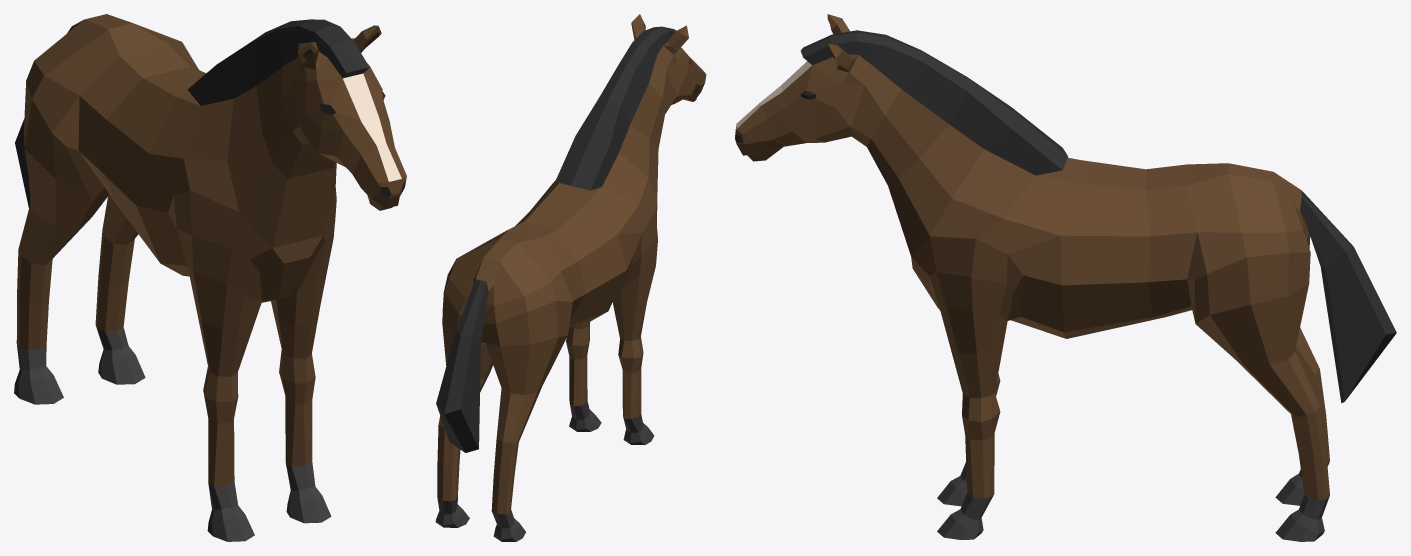
Rendered from horse.glb.
The picture shows the model from 3 angles, left to right: view 1: azimuth 30°, elevation 25°; view 2: azimuth 150°, elevation 25°; view 3: azimuth 270°, elevation 25°; orthographic projection. The views are drawn at different scales.
Visible parts, largest first — view 1: horse; view 2: horse; view 3: horse.
Boxes of the visible parts, left/top/right/bottom form: horse: left=14, top=14, right=406, bottom=541; horse: left=435, top=14, right=706, bottom=541; horse: left=735, top=14, right=1396, bottom=541.
Bounding box in the file's own units: 0.6717 × 2.09 × 2.57.
